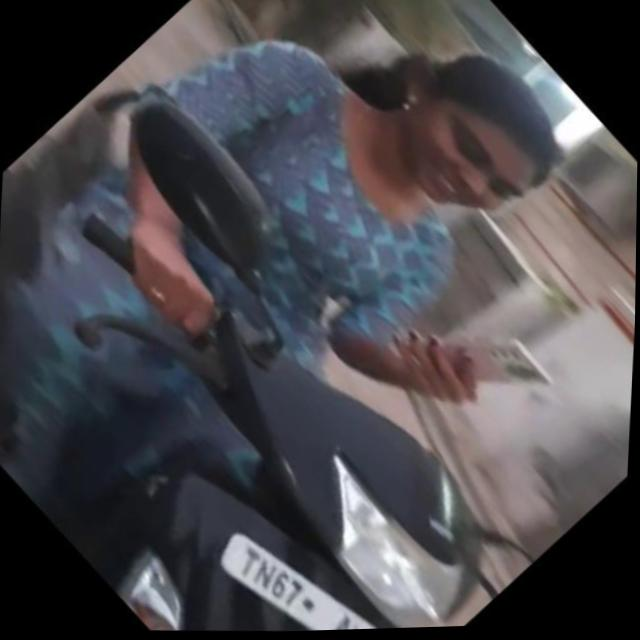USING_MOBILE: (225, 10, 640, 487)
